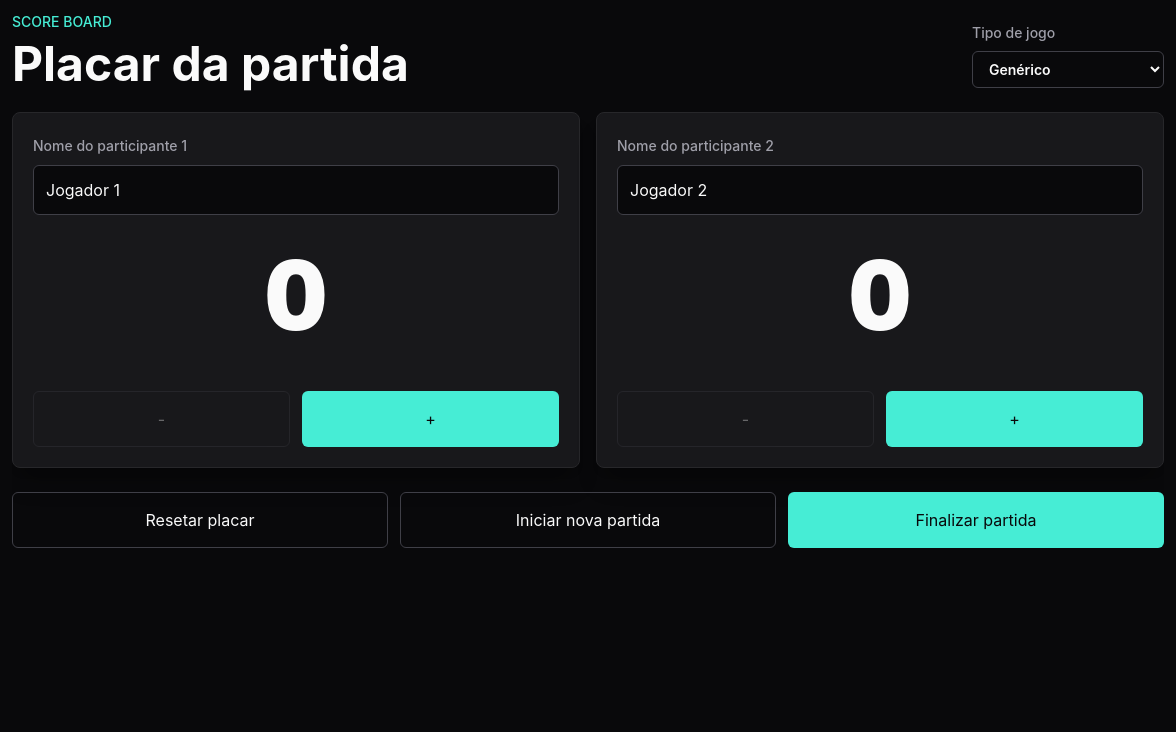
Scenario: Scoreboard › lets users edit names, score both players, block negative scores, and reset scores only
The image size is (1176, 732).
Expected: the text named "Pontuação de Jogador 1" reads "0", [265, 237, 327, 353]
Expected: the text named "Pontuação de Jogador 2" reads "0", [849, 237, 911, 353]
Replace the text in the field labelled "Nome do participante 1" with "Ana" at x=296, y=190, box [33, 165, 559, 215]
Replace the text in the field labelled "Nome do participante 2" with "Bruno" at x=880, y=190, box [617, 165, 1143, 215]
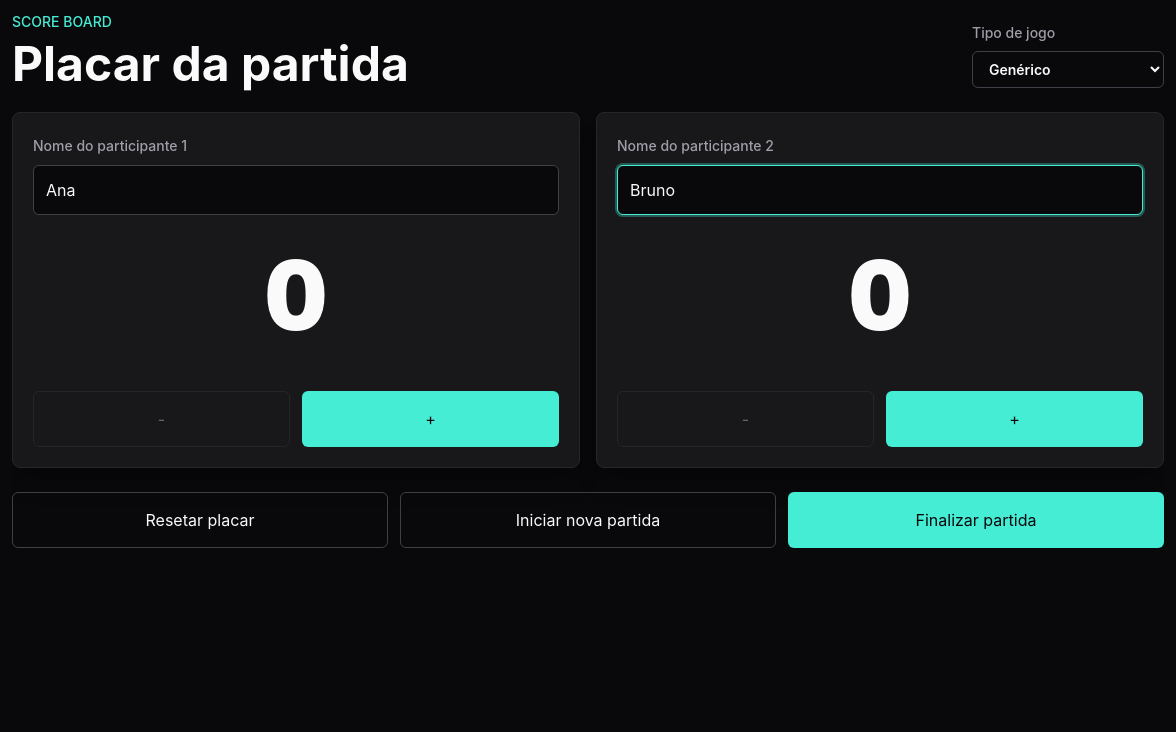
Click the button named "Adicionar ponto para Ana" at x=430, y=419, box [302, 391, 559, 447]
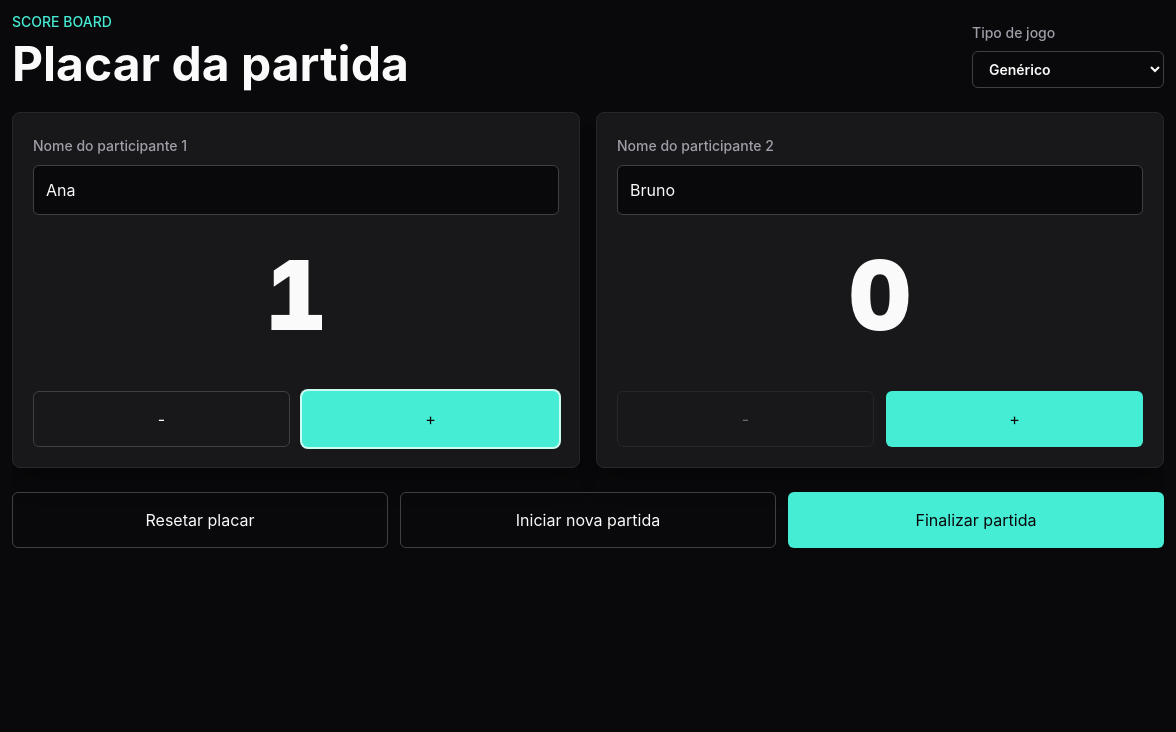
Click the button named "Adicionar ponto para Ana" at x=430, y=419, box [302, 391, 559, 447]
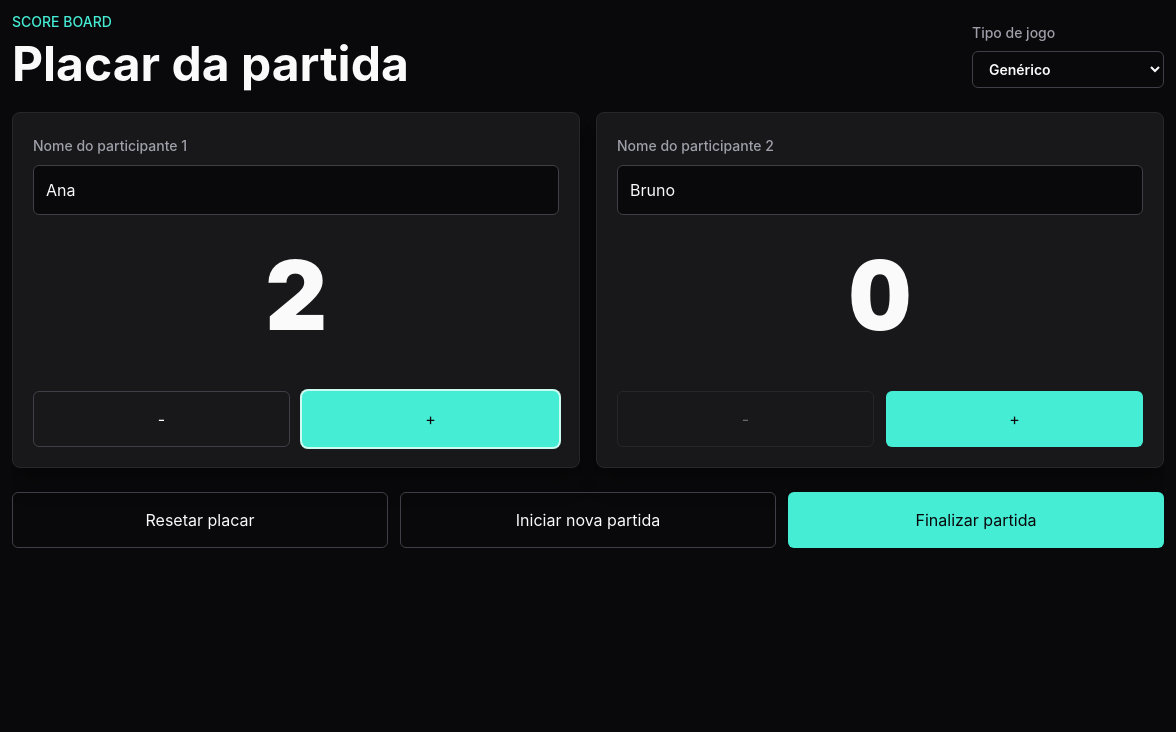
Click the button named "Adicionar ponto para Bruno" at x=1014, y=419, box [886, 391, 1143, 447]
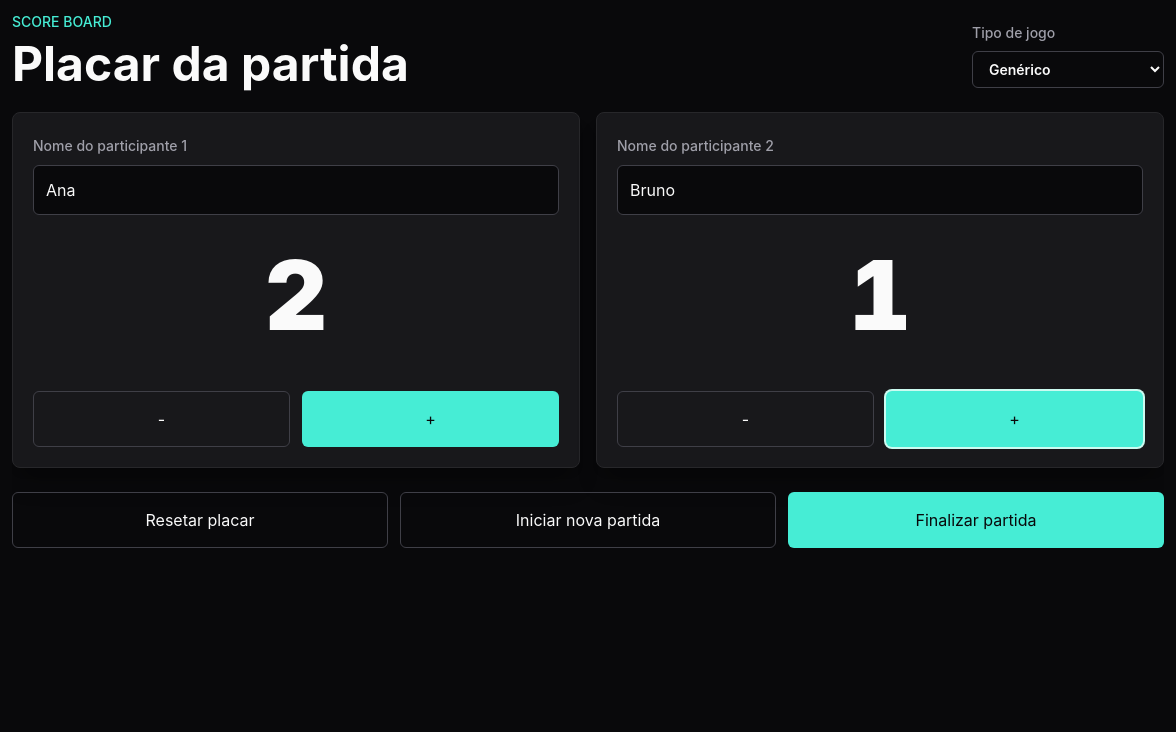
Click the button named "Remover ponto de Ana" at x=162, y=419, box [33, 391, 290, 447]
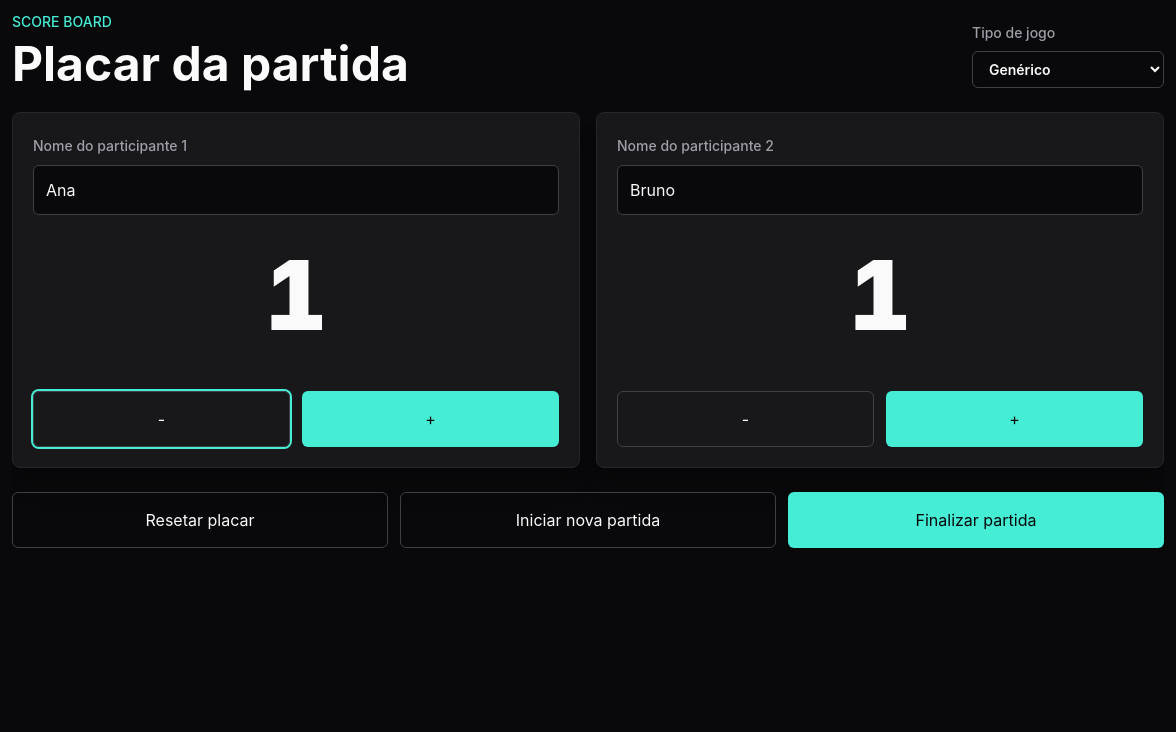
Now the text named "Pontuação de Bruno" reads "1", box [849, 237, 911, 353]
Now the text named "Pontuação de Ana" reads "1", box [265, 237, 327, 353]
Click the button with aria-label "Resetar pontuações" at x=200, y=520, box [12, 492, 388, 548]
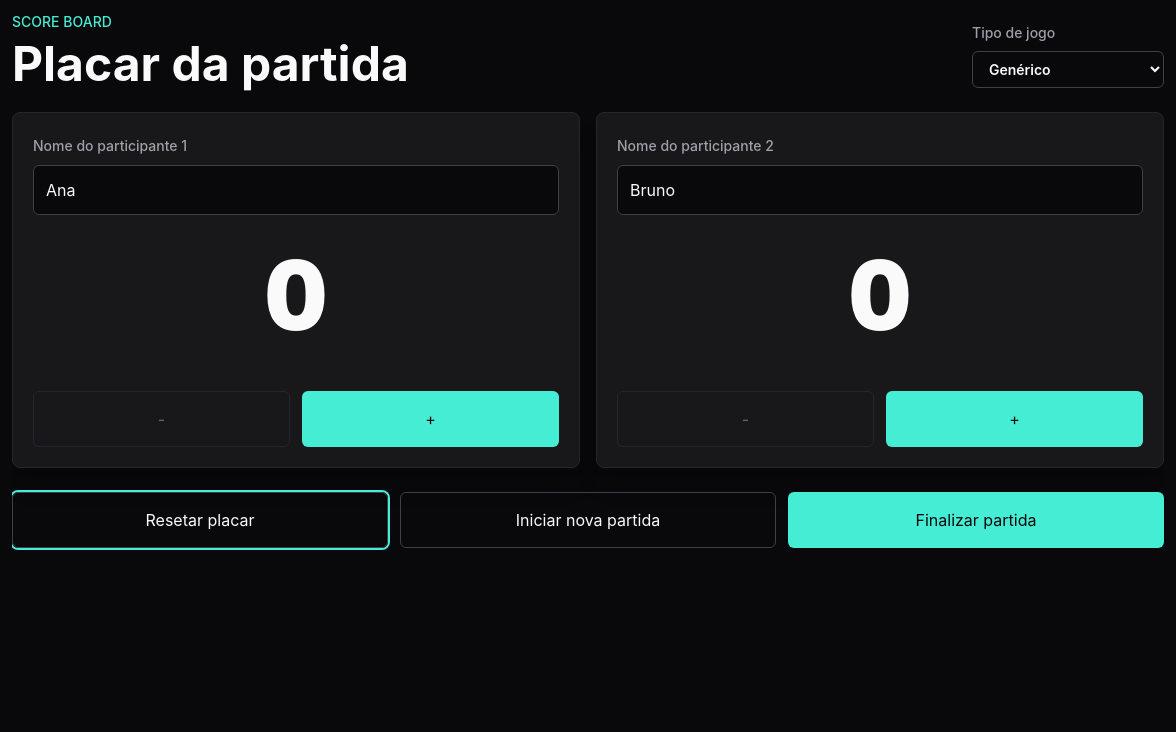
Expected: the button named "Remover ponto de Ana" is disabled, [33, 391, 290, 447]
Now the text named "Pontuação de Ana" reads "0", box [265, 237, 327, 353]
Now the text named "Pontuação de Bruno" reads "0", box [849, 237, 911, 353]
